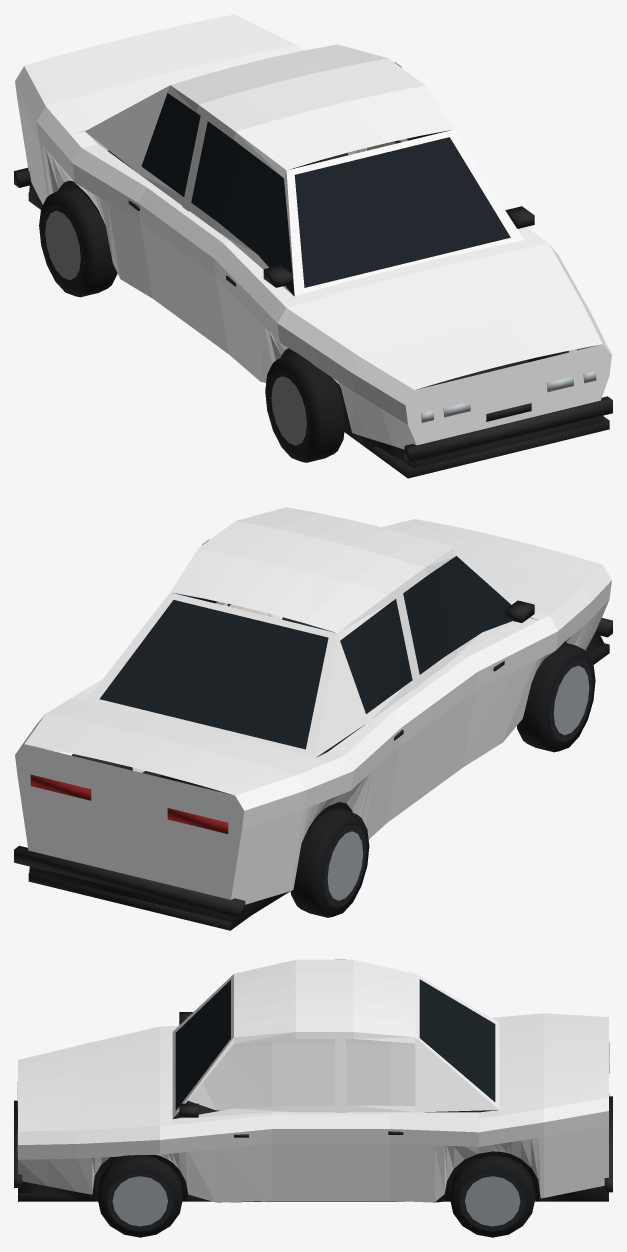
Rendered from hayase_mimo.glb.
3 renders of one model, top to bottom at view 1: azimuth 30°, elevation 25°; view 2: azimuth 150°, elevation 25°; view 3: azimuth 270°, elevation 25°, orthographic. The views are drawn at different scales.
Parts seen in each view (by area): view 1: Body_Paint, Body_Details, Mount_FrontLeft_Wheel_Details, Mount_RearLeft_Wheel_Details; view 2: Body_Paint, Body_Details, Mount_RearLeft_Wheel_Details, Mount_FrontLeft_Wheel_Details; view 3: Body_Paint, Body_Details, Mount_FrontRight_Wheel_Details, Mount_RearRight_Wheel_Details.
Part boxes in pixels (bbox=[...]): Body_Paint: bbox=[15, 14, 611, 449]; Body_Details: bbox=[14, 93, 612, 478]; Mount_FrontLeft_Wheel_Details: bbox=[265, 353, 345, 462]; Mount_RearLeft_Wheel_Details: bbox=[39, 187, 117, 297]; Body_Paint: bbox=[15, 507, 611, 904]; Body_Details: bbox=[14, 556, 612, 930]; Mount_RearLeft_Wheel_Details: bbox=[290, 808, 369, 917]; Mount_FrontLeft_Wheel_Details: bbox=[517, 642, 595, 752]; Body_Paint: bbox=[18, 959, 608, 1202]; Body_Details: bbox=[14, 979, 612, 1202]; Mount_FrontRight_Wheel_Details: bbox=[97, 1155, 182, 1237]; Mount_RearRight_Wheel_Details: bbox=[450, 1155, 535, 1237].
Size of the model in its own units: 1.69 by 1.42 by 3.99.
Materials: 2 (1 with a texture image).
